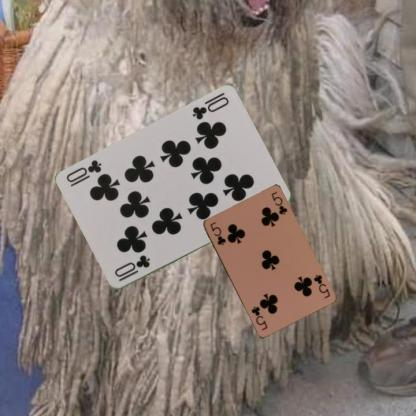10c: (112, 253, 152, 283), (189, 94, 230, 122)
5c: (311, 271, 331, 300), (207, 219, 227, 246)
